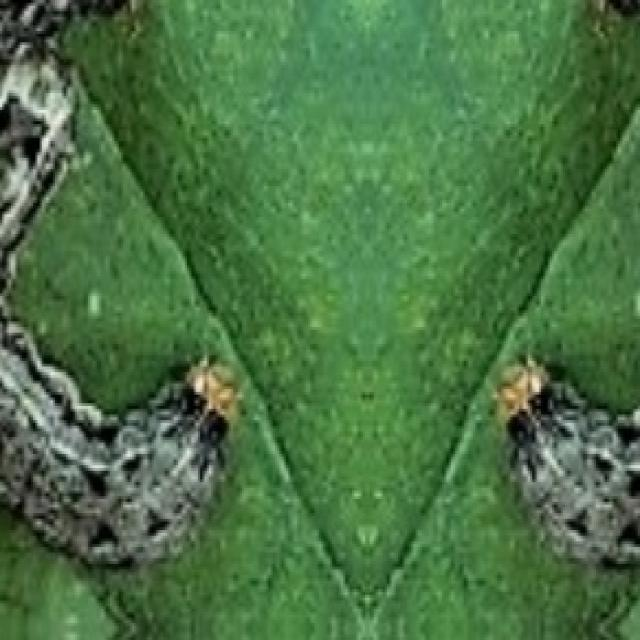armyworm: (0, 0, 247, 581), (488, 341, 640, 584)
